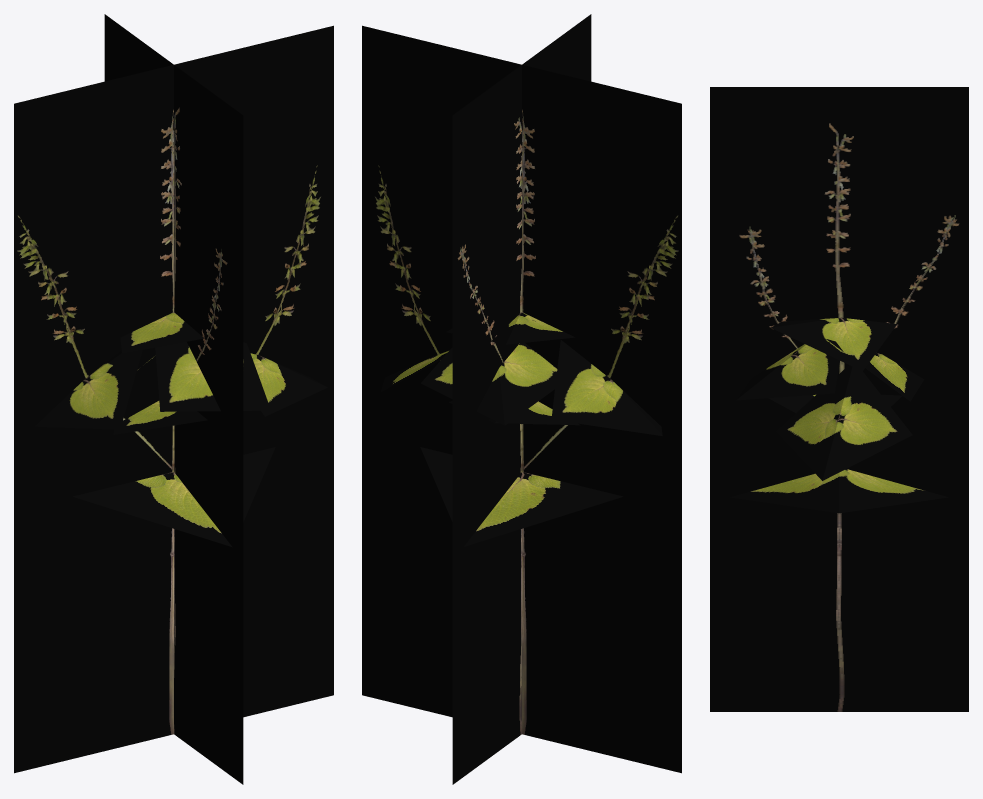
Rendered from shrub_03.fbx.
3 renders of one model, left to right at view 1: azimuth 30°, elevation 25°; view 2: azimuth 150°, elevation 25°; view 3: azimuth 270°, elevation 25°, orthographic. The views are drawn at different scales.
Visible parts, largest first — view 1: shrub_03; view 2: shrub_03; view 3: shrub_03.
Part boxes in pixels (x1,y1,x2,y2): shrub_03: [14, 14, 333, 784]; shrub_03: [362, 14, 681, 784]; shrub_03: [710, 87, 968, 711].
Size of the model in its own units: 40 by 80 by 30.
